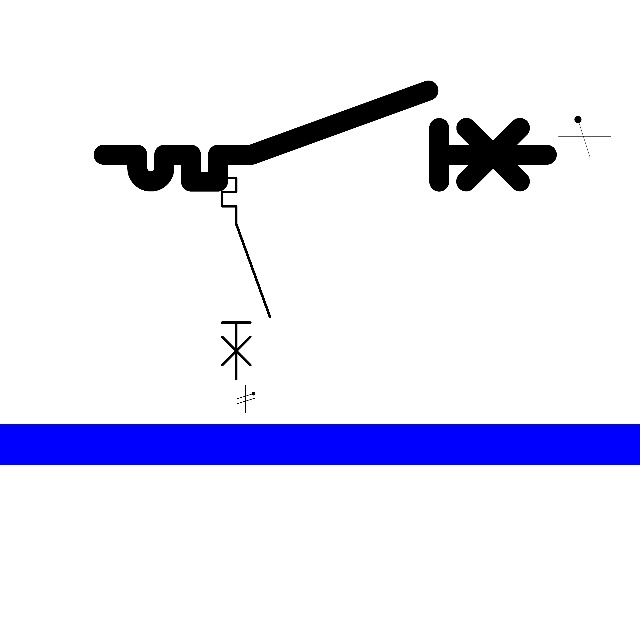interruptor_termomagnetico: (92, 79, 558, 193), (216, 140, 276, 385)
